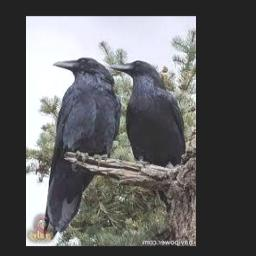Crow: (43, 57, 122, 237), (110, 60, 187, 169)
